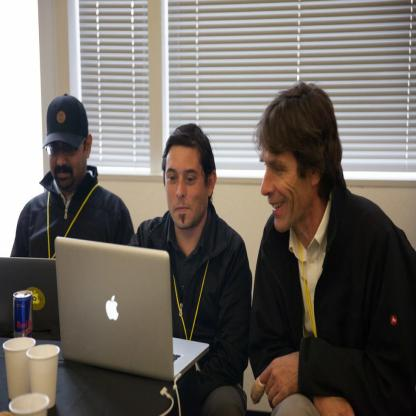board: (49, 240, 180, 388), (0, 258, 62, 340), (27, 343, 61, 411), (3, 337, 36, 401), (12, 289, 33, 341), (10, 392, 49, 416)
